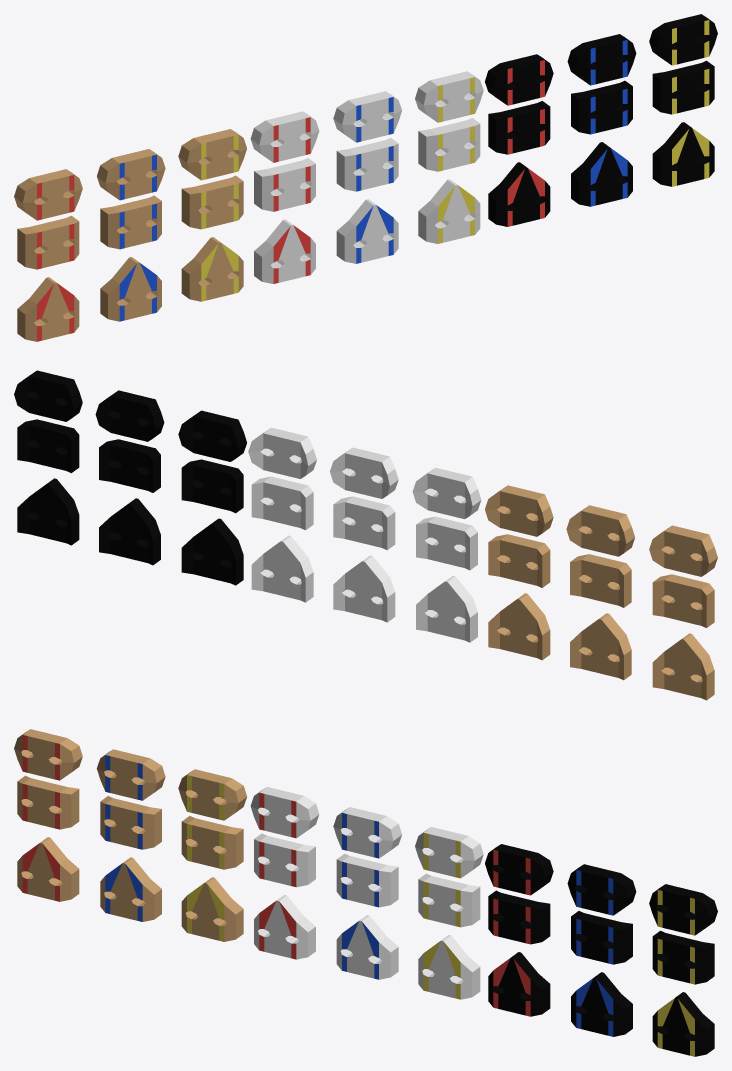
Rendered from masks.glb.
3 renders of one model, top to bottom at view 1: azimuth 30°, elevation 25°; view 2: azimuth 150°, elevation 25°; view 3: azimuth 330°, elevation 25°, orthographic.
Visible parts, largest first — view 1: Cube.011, Cube.005, Cube.008, Cube.020, Cube.026, Cube.017, Cube.023, Cube.014, Cube.002, Cube.003, Cube.006, Cube.009 (+15 smaller); view 2: Cube.008, Cube.017, Cube.005, Cube.026, Cube.011, Cube.020, Cube.002, Cube.014, Cube.023, Cube.009, Cube.018, Cube.024 (+15 smaller); view 3: Cube.008, Cube.026, Cube.005, Cube.011, Cube.017, Cube.020, Cube.014, Cube.023, Cube.002, Cube.003, Cube.009, Cube.024 (+15 smaller).
Part boxes in pixels (box(x1,y1,x2,y2)): Cube.011: box(17, 277, 79, 341); Cube.005: box(336, 199, 398, 263); Cube.008: box(418, 179, 480, 243); Cube.020: box(488, 162, 550, 226); Cube.026: box(652, 122, 714, 186); Cube.017: box(181, 237, 243, 301); Cube.023: box(571, 142, 632, 206); Cube.014: box(100, 257, 161, 321); Cube.002: box(254, 219, 315, 283); Cube.003: box(336, 137, 398, 191); Cube.006: box(418, 118, 480, 171); Cube.009: box(17, 215, 79, 269); Cube.008: box(251, 535, 313, 602); Cube.017: box(488, 593, 550, 660); Cube.005: box(333, 555, 395, 622); Cube.026: box(17, 478, 79, 545); Cube.011: box(652, 633, 714, 700); Cube.020: box(181, 518, 243, 585); Cube.002: box(416, 575, 477, 642); Cube.014: box(570, 613, 631, 680); Cube.023: box(99, 498, 160, 565); Cube.009: box(652, 574, 714, 627); Cube.018: box(181, 459, 243, 513); Cube.024: box(17, 419, 79, 473); Cube.008: box(418, 935, 480, 999); Cube.026: box(652, 992, 714, 1056); Cube.005: box(336, 915, 398, 979); Cube.011: box(17, 837, 79, 901); Cube.017: box(181, 877, 243, 941); Cube.020: box(488, 952, 550, 1016); Cube.014: box(100, 857, 161, 921); Cube.023: box(571, 972, 632, 1036); Cube.002: box(254, 895, 315, 959); Cube.003: box(336, 853, 398, 907); Cube.009: box(17, 775, 79, 829); Cube.024: box(652, 930, 714, 984).
Bounding box in the file's own units: 18.71 × 4.06 × 0.5395.
